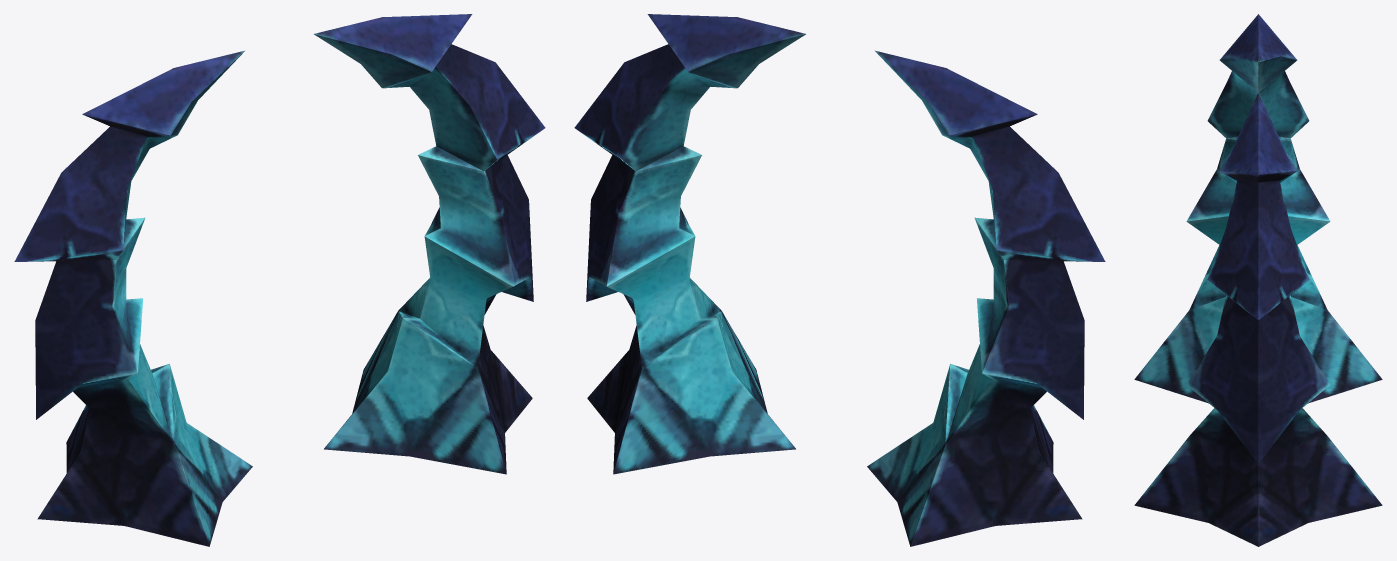
File: palace_teleporter_01.fbx
3 views of the same model, side by side, from view 1: azimuth 30°, elevation 25°; view 2: azimuth 150°, elevation 25°; view 3: azimuth 270°, elevation 25° (orthographic). The views are drawn at different scales.
Parts seen in each view (by area): view 1: palace_teleporter_01; view 2: palace_teleporter_01; view 3: palace_teleporter_01.
Part boxes in pixels (bbox=[...]): palace_teleporter_01: bbox=[14, 14, 545, 546]; palace_teleporter_01: bbox=[574, 14, 1105, 546]; palace_teleporter_01: bbox=[1134, 14, 1382, 546].
Bounding box in the file's own units: 5.7 × 4.28 × 2.66.
